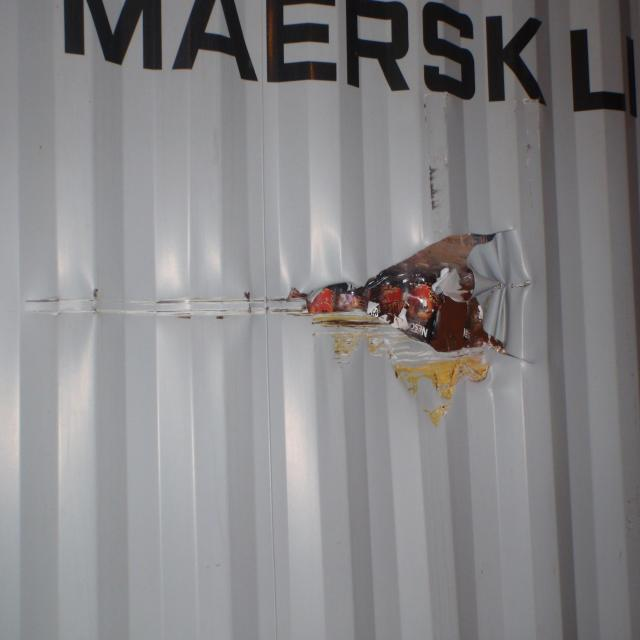hole: (281, 228, 522, 360)
